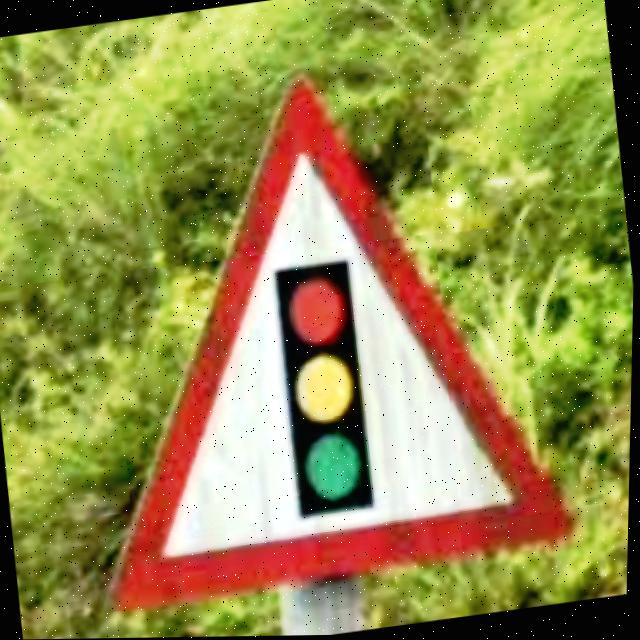signalahead: (117, 82, 573, 612)
